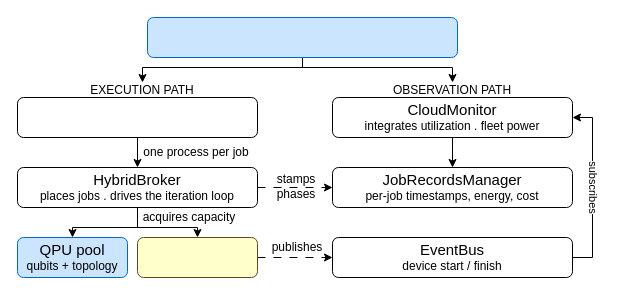
This 618x295 diagram has some shape labels left out. Each missing label, with the centre of its shape:
CPU pool cores + memory BW: point (197, 257)
HybridCloudSimEnv subclasses simpy.Environment . owns the configurations: point (302, 37)
JobGenerator replays a batch file, or synthesizes arrivals: point (137, 117)
